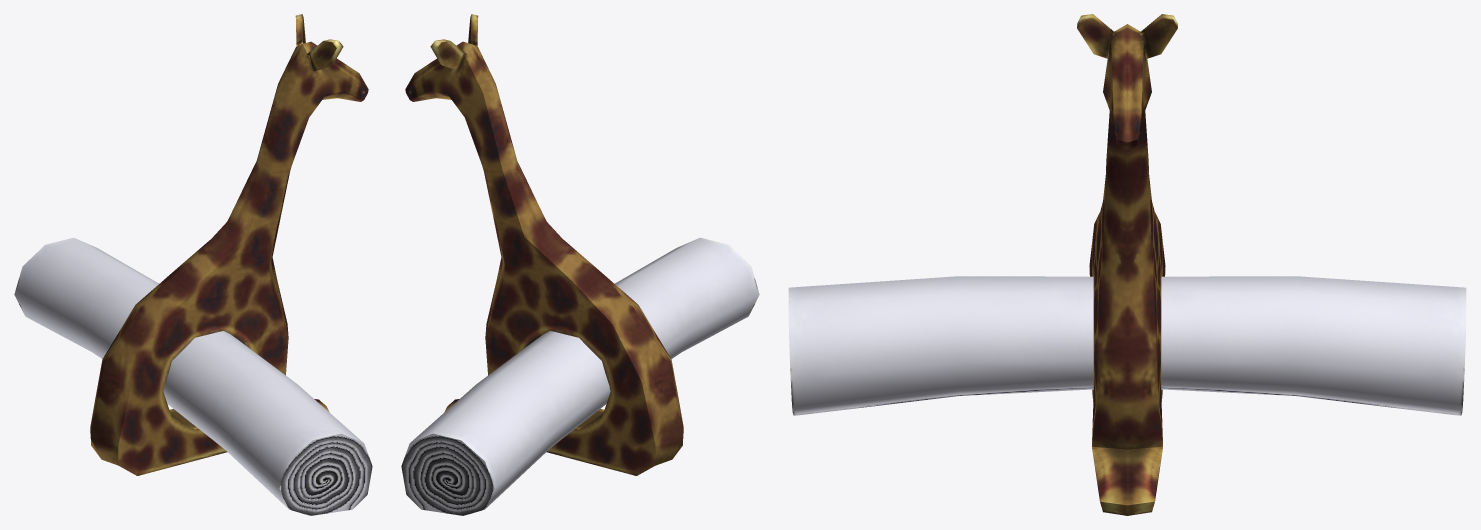
Rendered from StatueA.FBX.
3 renders of one model, left to right at view 1: azimuth 30°, elevation 25°; view 2: azimuth 150°, elevation 25°; view 3: azimuth 270°, elevation 25°, orthographic. The views are drawn at different scales.
Parts seen in each view (by area): view 1: StatueA; view 2: StatueA; view 3: StatueA.
Boxes of the visible parts, box(x1,y1,x2,y2) form: StatueA: box(14, 14, 372, 515); StatueA: box(401, 14, 759, 515); StatueA: box(788, 14, 1466, 515).
Bounding box in the file's own units: 20.75 × 34.58 × 27.84.
Materials: 1 (1 with a texture image).
